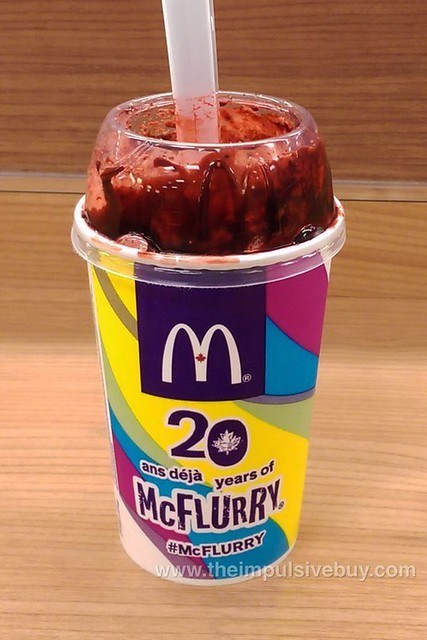mcdonalds: (156, 318, 246, 392)
